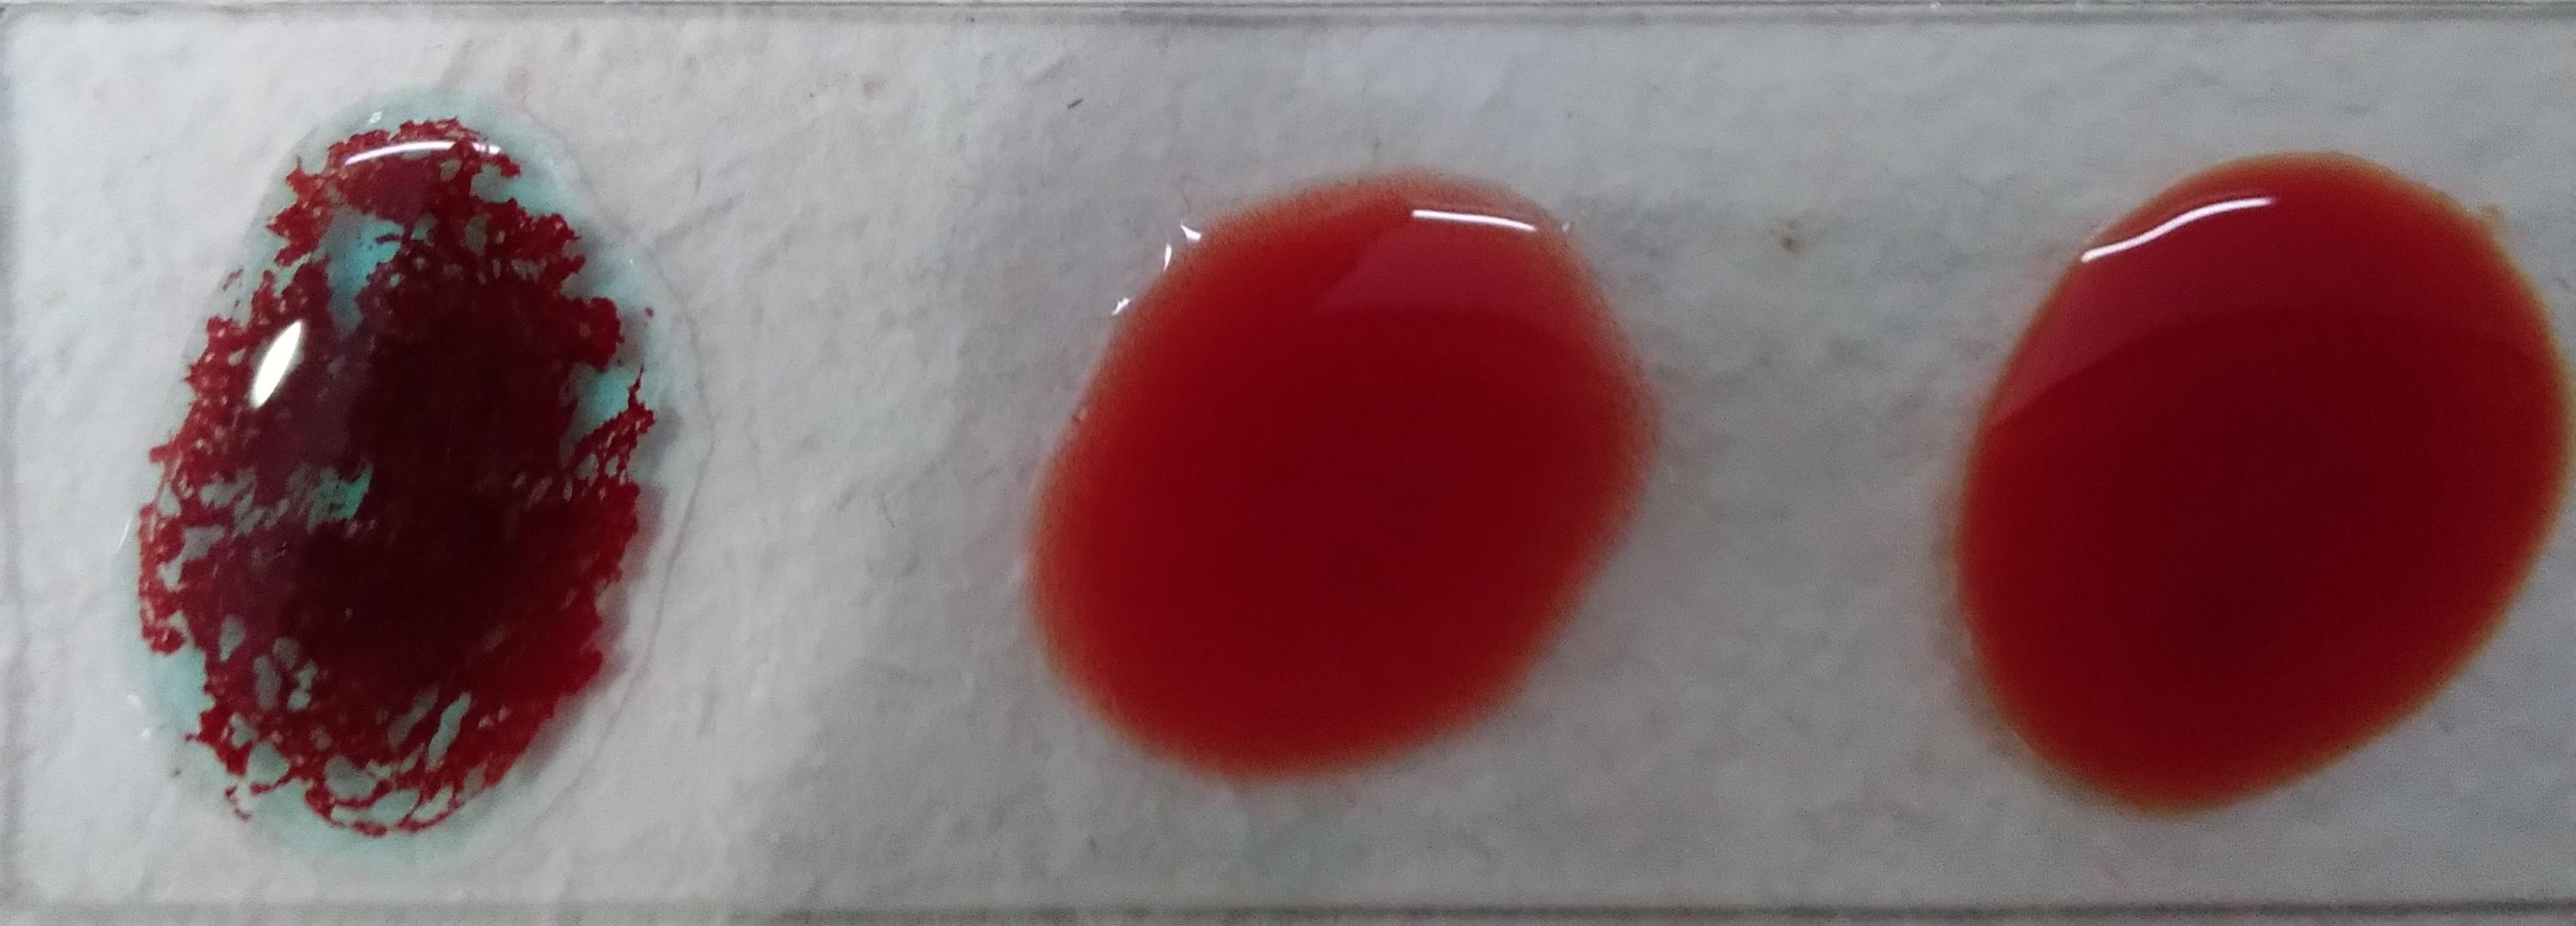A: (1884, 89, 2435, 818)
